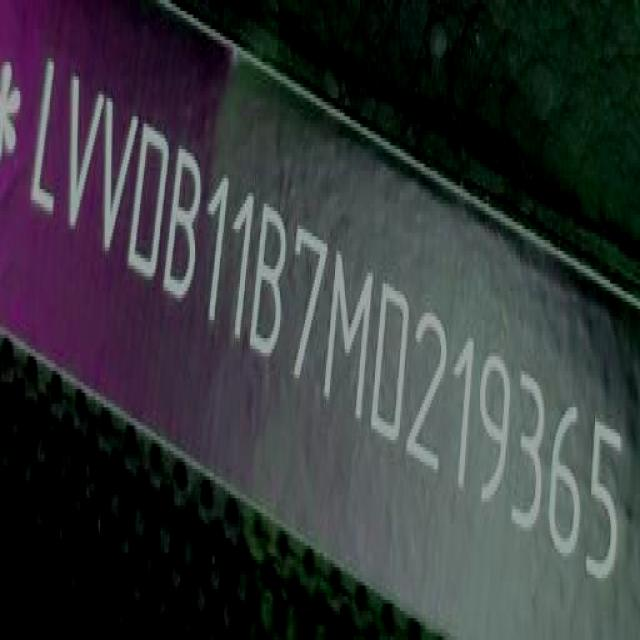1: (202, 158, 236, 340), (448, 322, 478, 499), (227, 178, 255, 354)
2: (407, 293, 452, 481)
3: (510, 360, 550, 544)
5: (586, 410, 631, 593)
6: (547, 390, 589, 568)
7: (288, 213, 334, 405)
9: (474, 342, 516, 518)
B: (164, 138, 208, 324), (250, 189, 293, 374)
D: (371, 267, 417, 458), (132, 115, 175, 292)
L: (26, 52, 70, 229)
M: (325, 238, 379, 432)
V: (98, 90, 143, 272), (62, 66, 106, 247)
